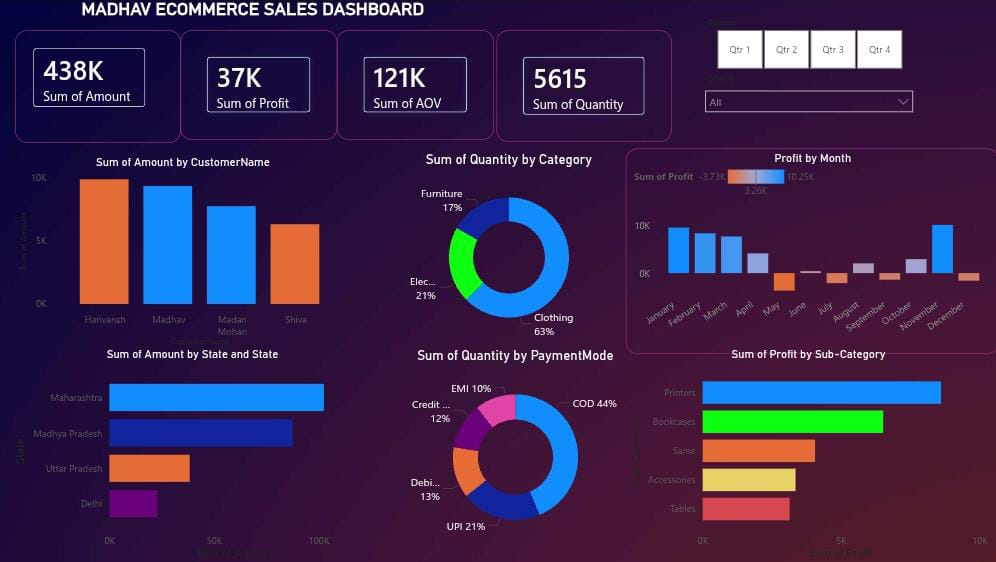

This screenshot's page, from the dashboard's own definition file:
{"tool":"powerbi","page":{"name":"Page 1","canvas":[1280,720],"ordinal":0},"visuals":[{"type":"textbox","title":"MADHAV ECOMMERCE SALES DASHBOARD","box":[19.2,0,620.2,96.1],"z":0},{"type":"columnChart","title":" Profit by Month","fields":{"Category":["Orders.Order Date.Variation.Date Hierarchy.Month"],"Y":["Details.Profit"]},"box":[804.1,188,476.2,262.1],"z":1000},{"type":"barChart","fields":{"Category":["Details.Sub-Category"],"Y":["Details.Profit"]},"box":[804.1,447.3,466.6,273.1],"z":2000},{"type":"donutChart","fields":{"Category":["Details.Category"],"Y":["Details.Quantity"]},"box":[518.7,196.2,270.3,248.4],"z":3000},{"type":"donutChart","fields":{"Y":["Details.Quantity"],"Category":["Details.PaymentMode"]},"box":[524.2,447.3,279.9,259.3],"z":4000},{"type":"cardVisual","fields":{"Data":["Details.Amount"]},"box":[22.9,38.6,211.1,143.6],"z":5000},{"type":"cardVisual","fields":{"Data":["Details.Profit"]},"box":[234.6,39.8,200.3,140],"z":6000},{"type":"cardVisual","fields":{"Data":["Details.AOV"]},"box":[435,39.8,200.3,140],"z":7000},{"type":"cardVisual","fields":{"Data":["Details.Quantity"]},"box":[639.5,39.8,223.7,142.7],"z":8000},{"type":"barChart","fields":{"Series":["Orders.State"],"Category":["Orders.State"],"Y":["Details.Amount"]},"box":[19.2,447.3,466.6,273.1],"z":9000},{"type":"columnChart","fields":{"Category":["Orders.CustomerName"],"Y":["Details.Amount"]},"box":[23.3,201.7,428.1,245.6],"z":10000},{"type":"slicer","fields":{"Values":["Orders.Order Date.Variation.Date Hierarchy.Quarter"]},"box":[894.7,19.2,285.4,76.8],"z":11000},{"type":"slicer","fields":{"Values":["Orders.State"]},"box":[894.7,86.4,285.4,76.8],"z":12000}]}

Visuals, with their boxes in screenshot pixels (x1, y1, x2, y2), scaled from the page's 1280x720 canvas onto the 996x562 screenshot:
"MADHAV ECOMMERCE SALES DASHBOARD" textbox: <bbox>15, 0, 498, 75</bbox>
" Profit by Month" columnChart: <bbox>626, 147, 995, 351</bbox>
barChart - Details.Sub-Category x Details.Profit: <bbox>626, 349, 989, 561</bbox>
donutChart - Details.Category x Details.Quantity: <bbox>404, 153, 614, 347</bbox>
donutChart - Details.Quantity x Details.PaymentMode: <bbox>408, 349, 626, 552</bbox>
cardVisual - Details.Amount: <bbox>18, 30, 182, 142</bbox>
cardVisual - Details.Profit: <bbox>183, 31, 338, 140</bbox>
cardVisual - Details.AOV: <bbox>338, 31, 494, 140</bbox>
cardVisual - Details.Quantity: <bbox>498, 31, 672, 142</bbox>
barChart - Orders.State x Orders.State: <bbox>15, 349, 378, 561</bbox>
columnChart - Orders.CustomerName x Details.Amount: <bbox>18, 157, 351, 349</bbox>
slicer - Orders.Order Date.Variation.Date Hierarchy.Quarter: <bbox>696, 15, 918, 75</bbox>
slicer - Orders.State: <bbox>696, 67, 918, 127</bbox>
